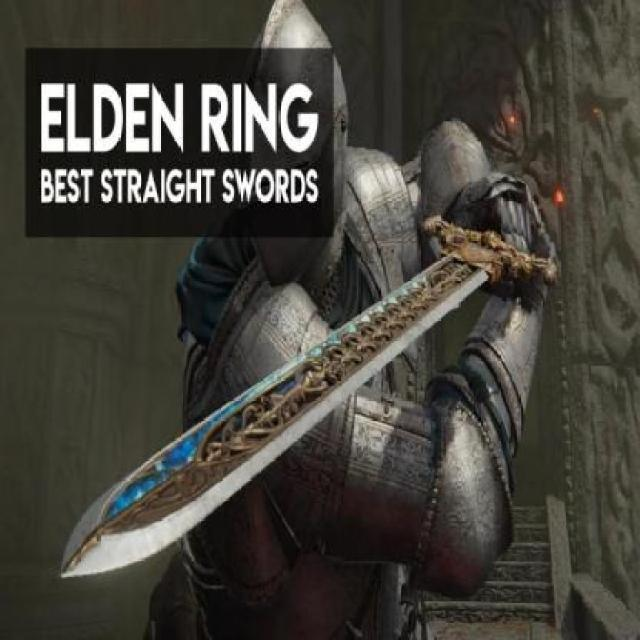weapon: (56, 203, 536, 591)
